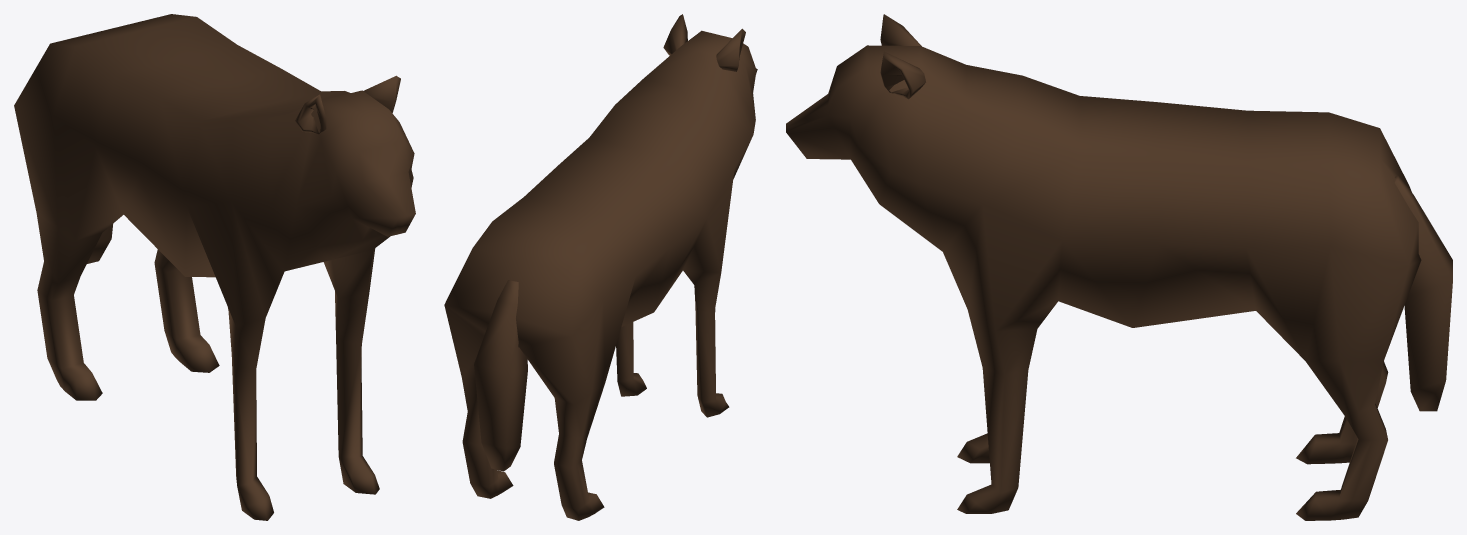
File: wolf.glb
3 renders of one model, left to right at view 1: azimuth 30°, elevation 25°; view 2: azimuth 150°, elevation 25°; view 3: azimuth 270°, elevation 25°, orthographic. The views are drawn at different scales.
Parts seen in each view (by area): view 1: wolf_body.001; view 2: wolf_body.001; view 3: wolf_body.001.
Part boxes in pixels (x1,y1,x2,y2): wolf_body.001: (14,14,415,520); wolf_body.001: (444,14,757,520); wolf_body.001: (786,14,1452,520).
Size of the model in its own units: 1.44 by 3.78 by 5.03.
